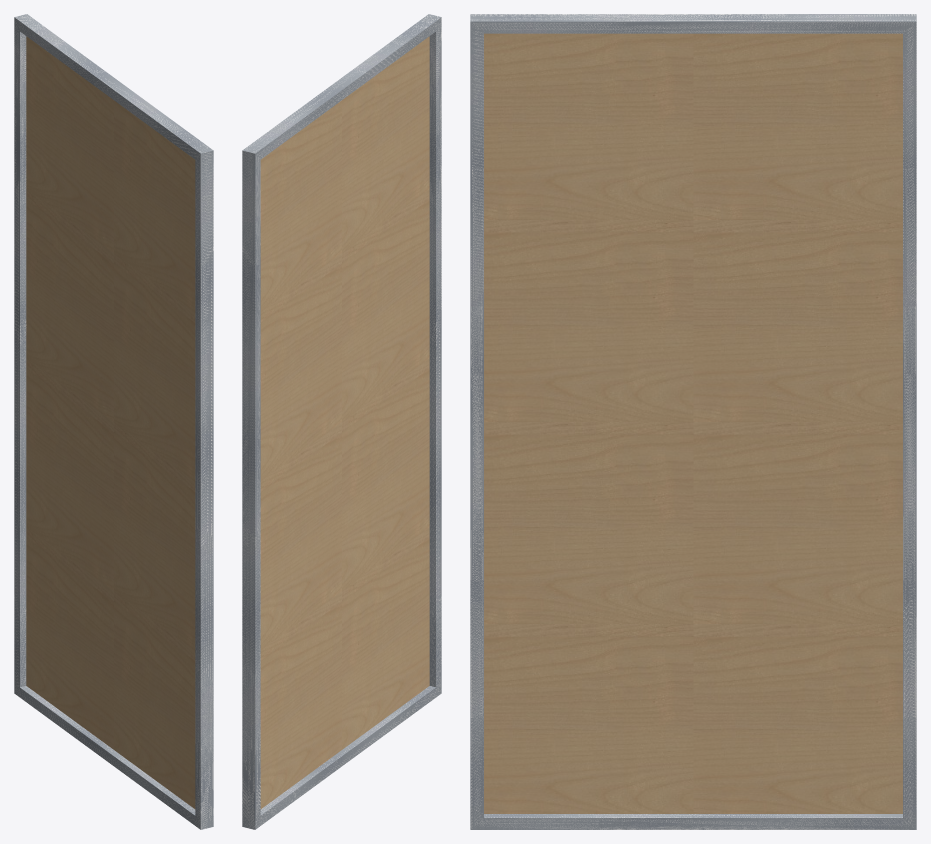
The model's file is tuer4.dae.
The picture shows the model from 3 angles, left to right: view 1: azimuth 30°, elevation 25°; view 2: azimuth 150°, elevation 25°; view 3: azimuth 270°, elevation 25°; orthographic projection. The views are drawn at different scales.
Visible parts, largest first — view 1: SketchUp (×3); view 2: SketchUp (×3); view 3: SketchUp (×3).
Boxes of the visible parts, x1,y1,x2,y2 form: SketchUp (×3): (14, 14, 213, 829); SketchUp (×3): (242, 14, 441, 829); SketchUp (×3): (470, 14, 916, 829).
Bounding box in the file's own units: 1.57 × 39.37 × 78.74.
Materials: 3 (2 with a texture image).
